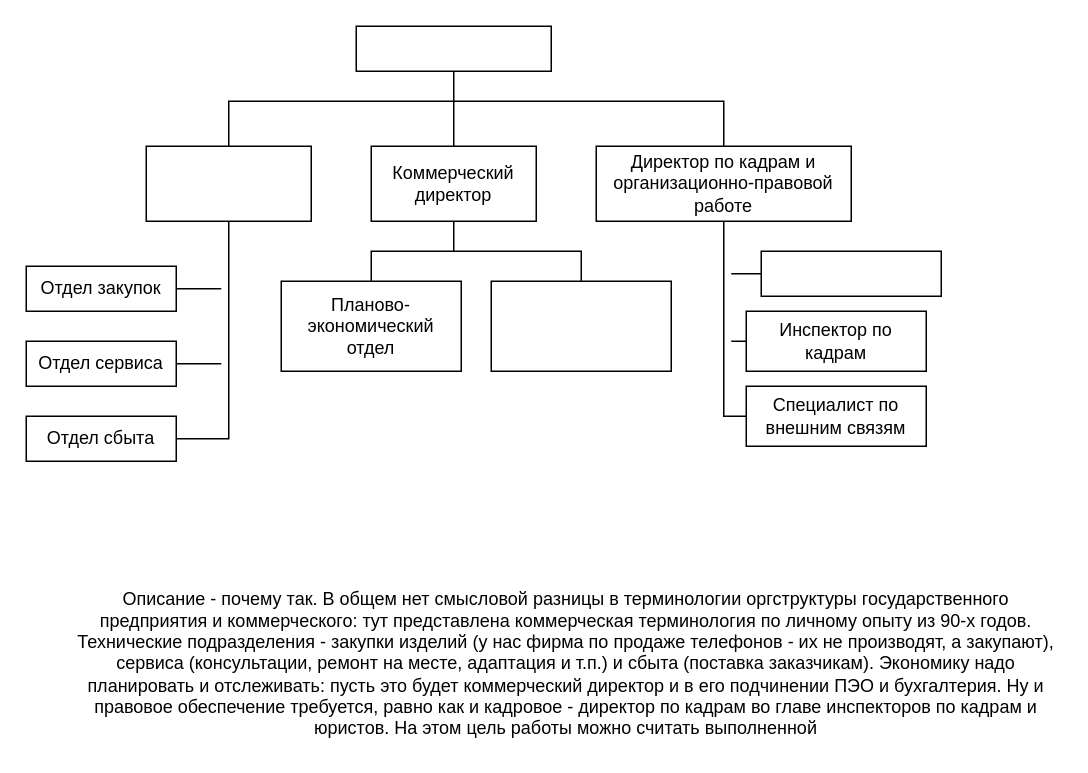
The diagram is 1088 pixels wide and 773 high, and some of its shapes have lost their labels. The centre of each missing label's shape, as x and y in pixels:
Бухгалтерия: the point at 580,325
Директор: the point at 453,48
Технический директор: the point at 228,183
Юристконсульт: the point at 850,273
